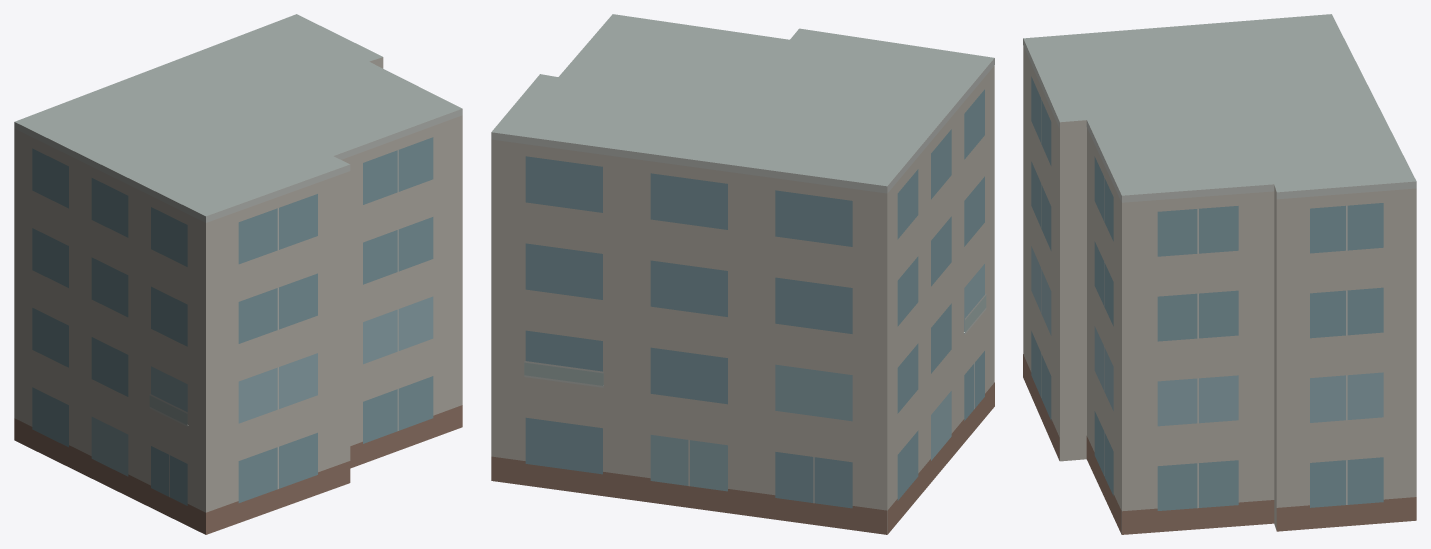
The model's file is survey-upis-32908793.glb.
3 renders of one model, left to right at view 1: azimuth 30°, elevation 25°; view 2: azimuth 150°, elevation 25°; view 3: azimuth 270°, elevation 25°, orthographic. The views are drawn at different scales.
Visible parts, largest first — view 1: survey-upis-32908793.tmp; view 2: survey-upis-32908793.tmp; view 3: survey-upis-32908793.tmp.
Part boxes in pixels (<box>): survey-upis-32908793.tmp: <box>14,14,462,534</box>; survey-upis-32908793.tmp: <box>491,14,994,534</box>; survey-upis-32908793.tmp: <box>1023,14,1416,534</box>.
Bounding box in the file's own units: 13.56 × 11.8 × 12.41.
